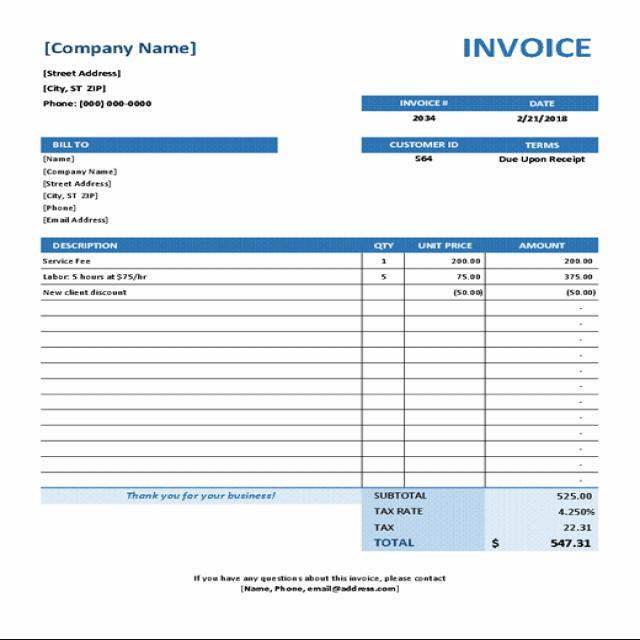customer_address: (34, 176, 140, 201)
customer_name: (36, 153, 130, 176)
invoice_date: (511, 113, 573, 129)
invoice_number: (409, 112, 446, 126)
invoice_subtotal: (552, 490, 598, 502)
invoice_total: (538, 536, 605, 554)
item_description: (36, 253, 226, 316)
item_quantity: (366, 255, 401, 317)
item_total_price: (554, 255, 598, 316)
item_unit_price: (437, 256, 483, 318)
supplier_address: (32, 67, 150, 96)
supplier_name: (38, 39, 207, 60)
tax_amount: (556, 523, 596, 533)
tax_rate: (555, 503, 597, 519)
